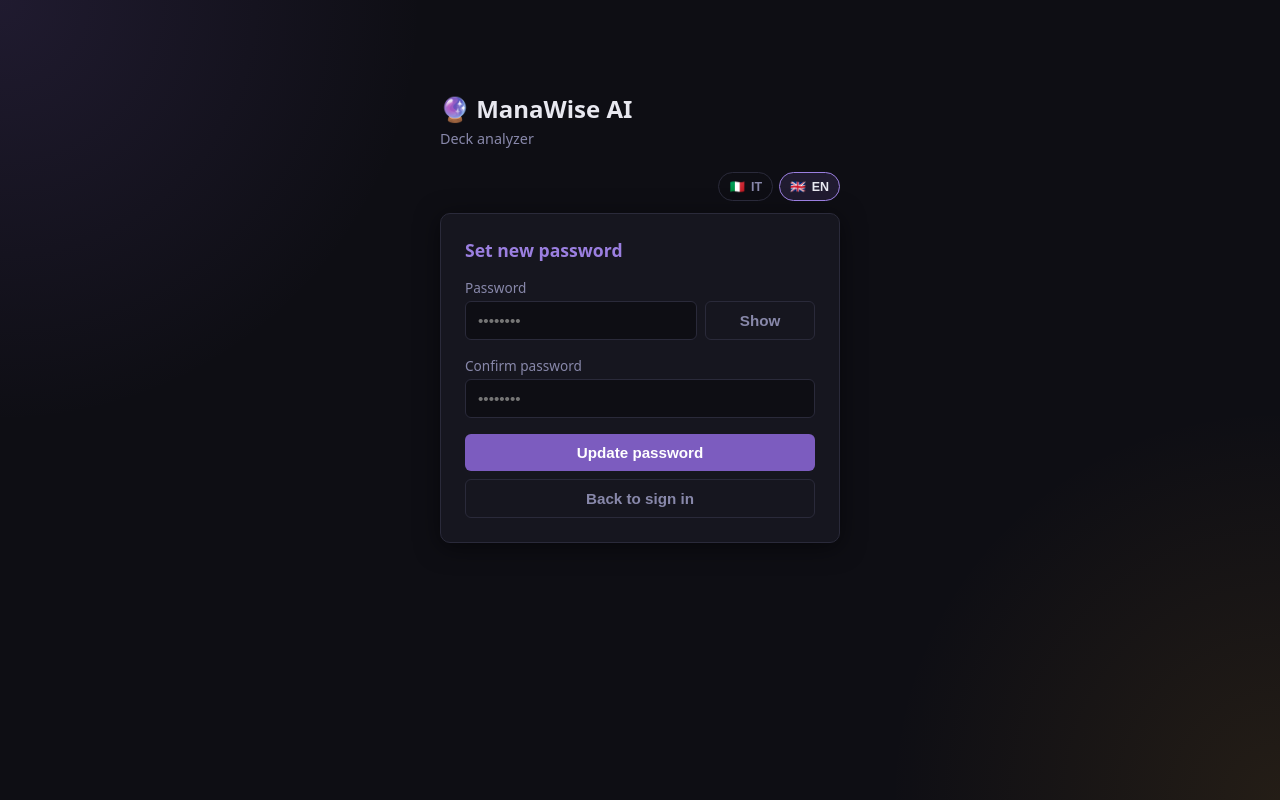
it: Auth reset flow › submits reset token and new password from query param
Type "NewPass123" into the 1st password field with placeholder "••••••••". click: (581, 320)
box: [465,301,697,340]
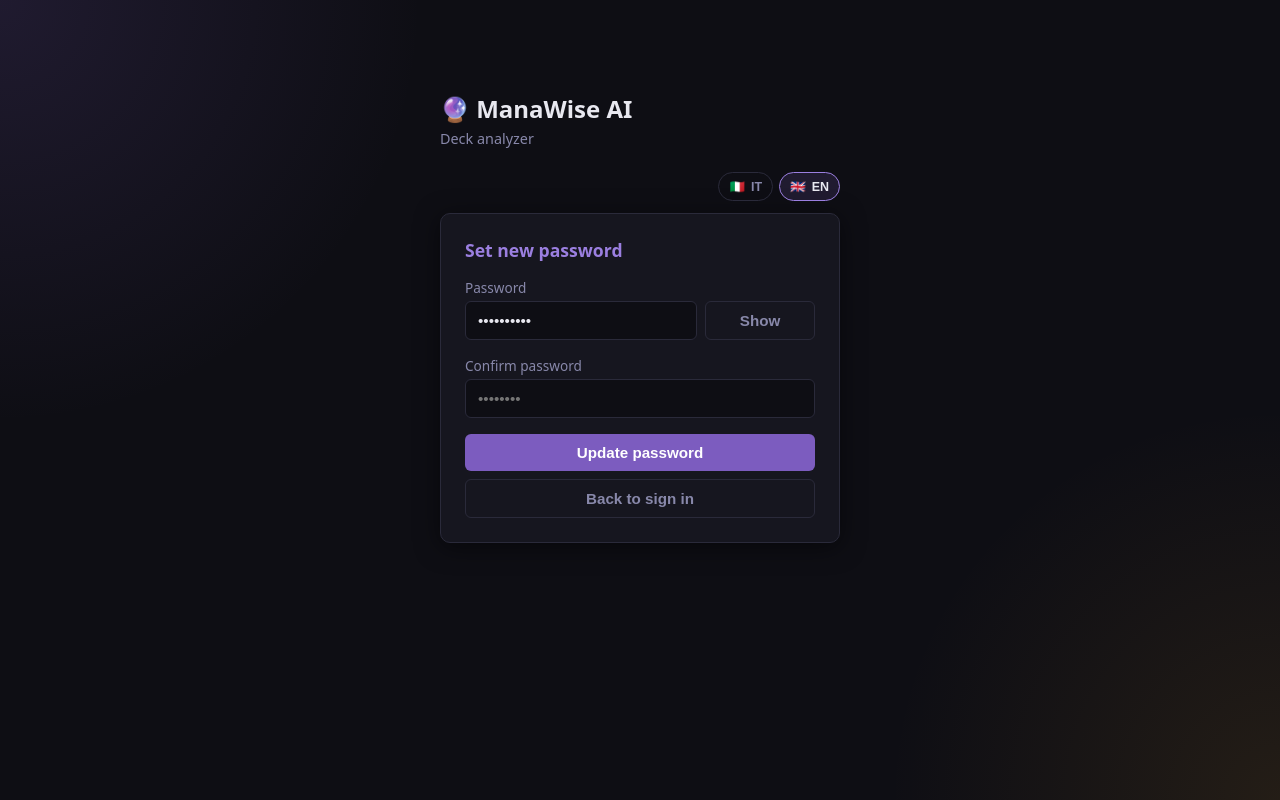
Type "NewPass123" into the password field with placeholder "••••••••". click: (640, 398)
box: [465,379,815,418]
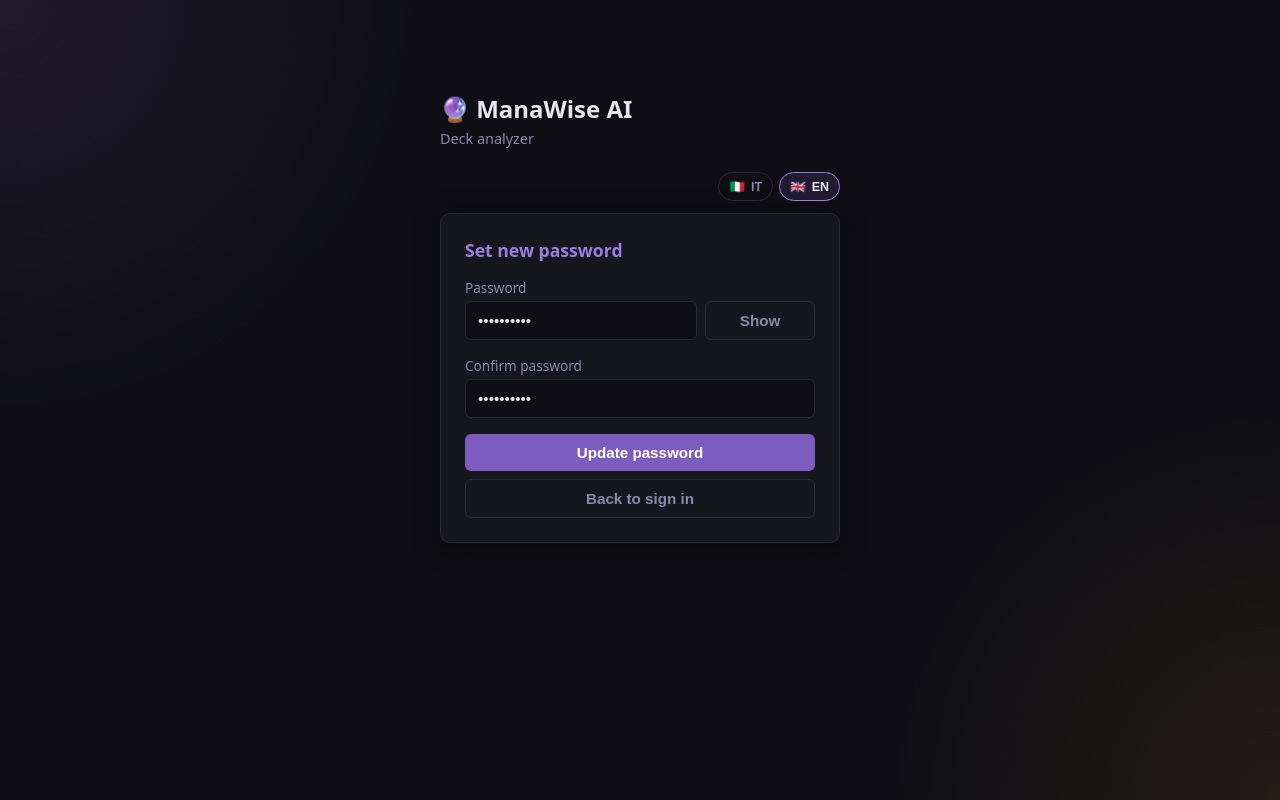
Click the button "Update password". click: (640, 452)
box: [465,434,815,471]
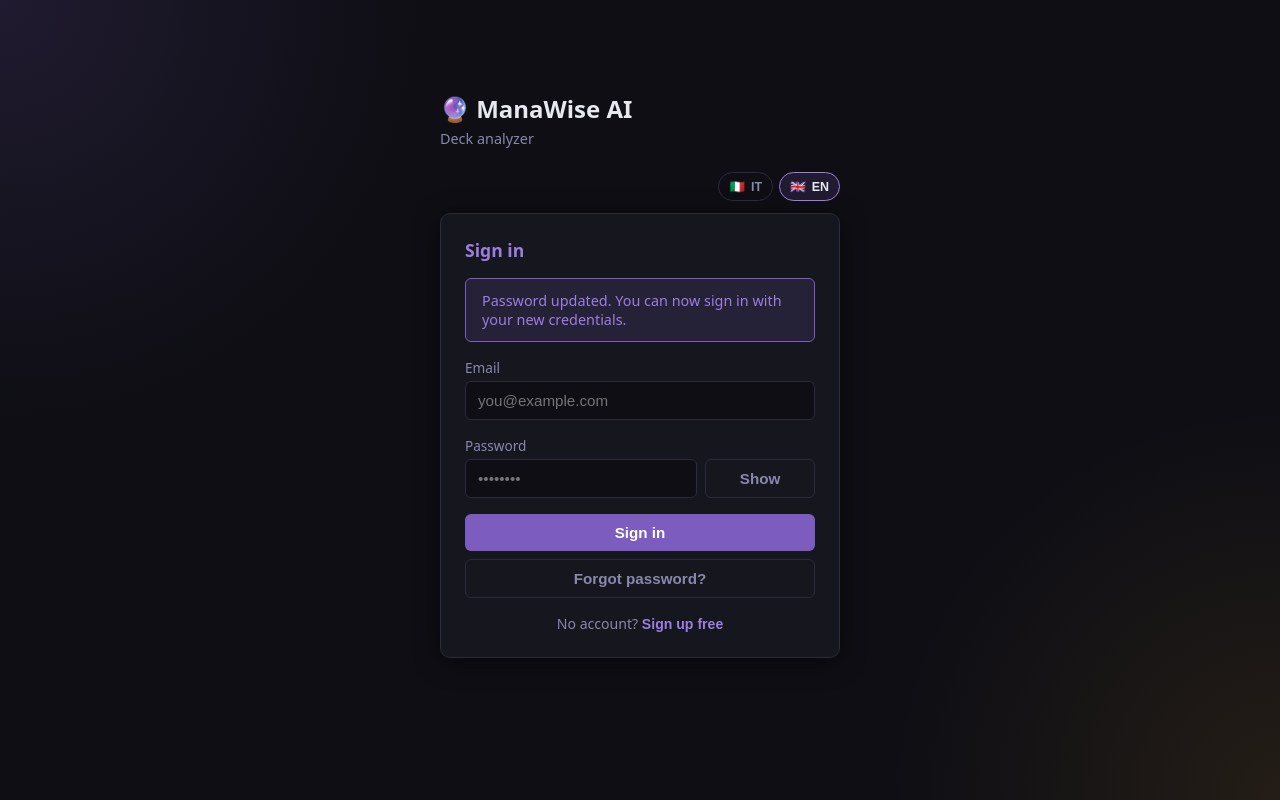
Check: the text "Password updated. You can now sign in with your new credentials." is shown, box [465,278,815,342]
